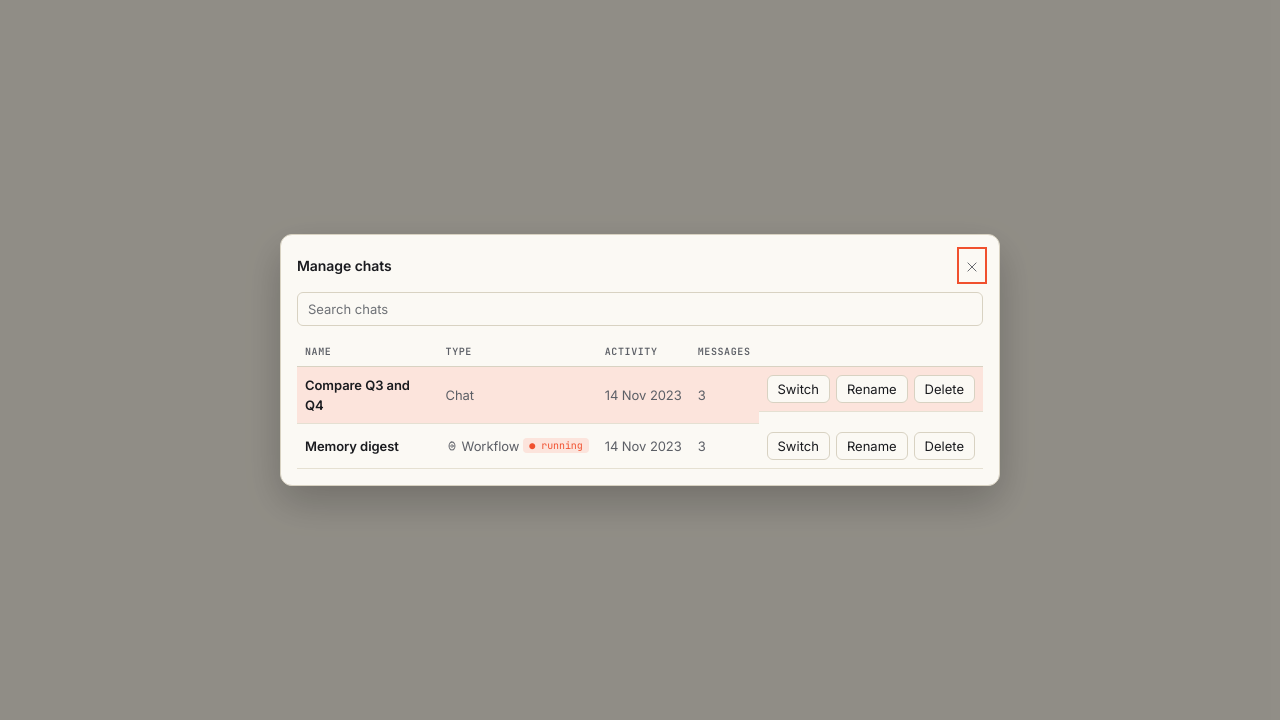
ManageChatsModal › filters rows by the search box
Type "memory" into the search field with test id "manage-chats-search". click: (640, 309)
box: [297,292,983,326]
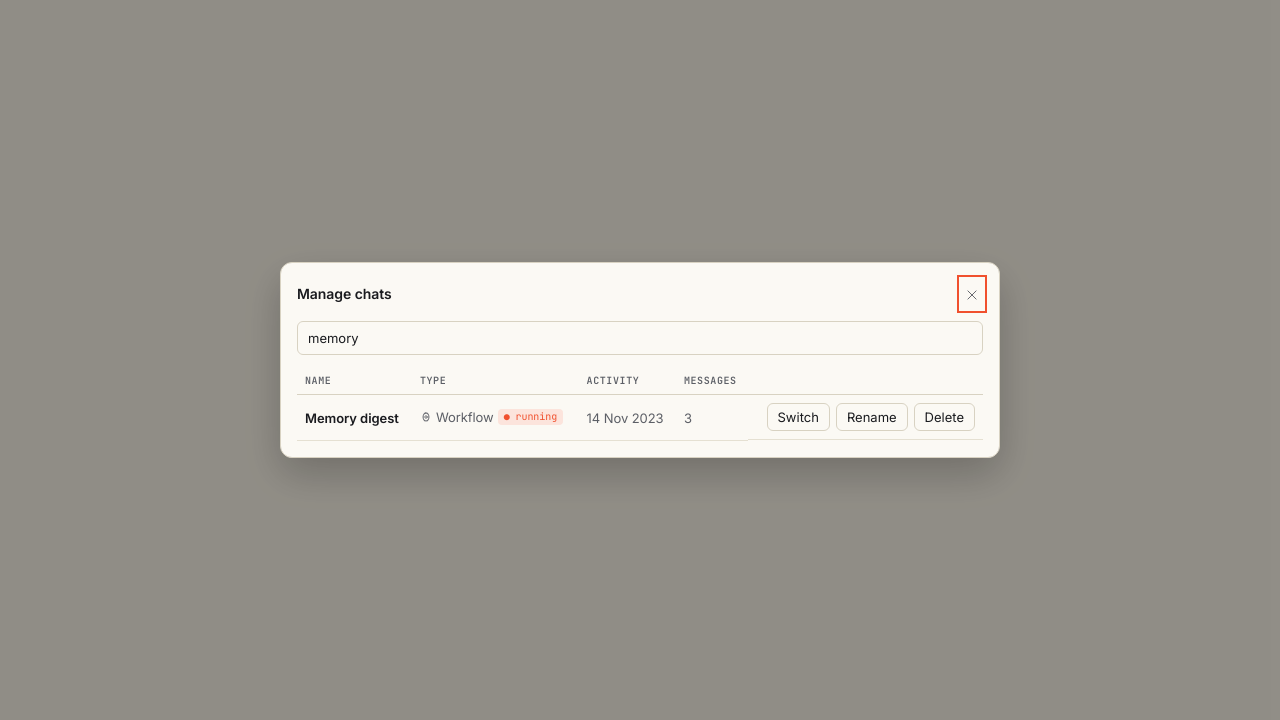
Expected: the row with test id "manage-chat-row-c2" is shown, [297,395,983,440]
Expected: the row with test id "manage-chat-row-c1" is gone
